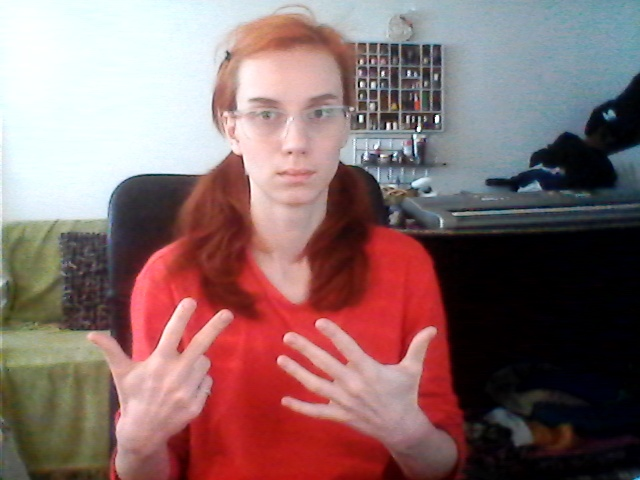osem: (84, 297, 451, 440)
